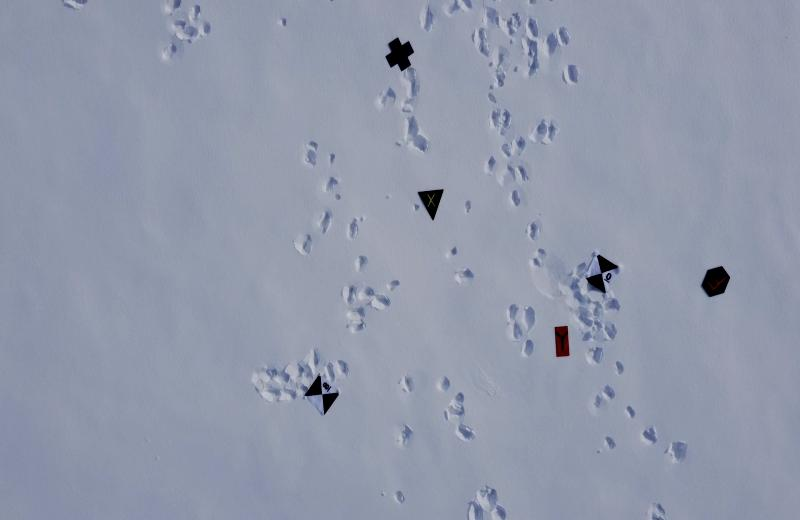Cross: (384, 31, 420, 78)
Hexagon: (700, 259, 738, 303)
Rectangle: (543, 315, 585, 363)
Triangle: (410, 182, 451, 225)
